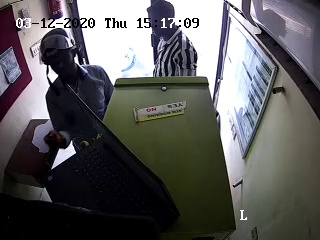helmet: (37, 26, 86, 80)
